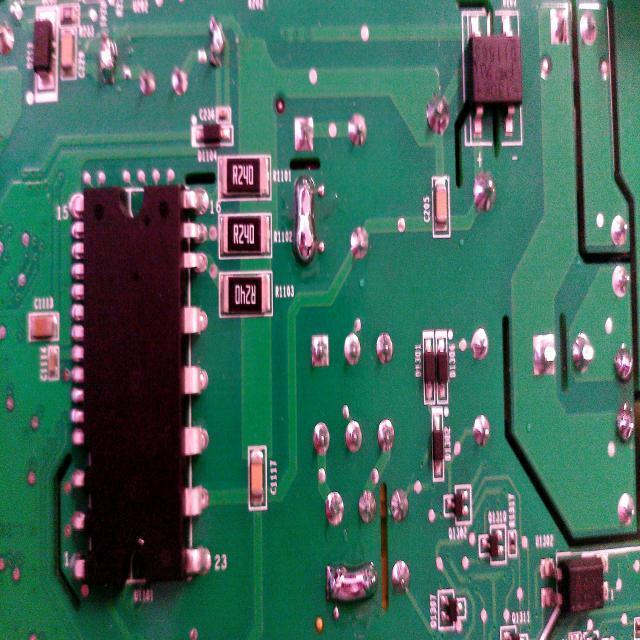Soldering shorted: (321, 560, 384, 604), (294, 172, 320, 272), (203, 4, 233, 77), (94, 28, 120, 96)
